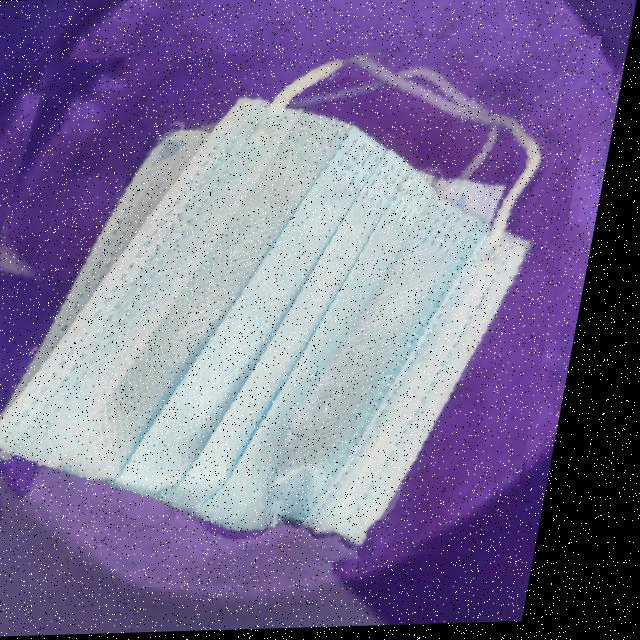mask: (0, 38, 603, 594)
